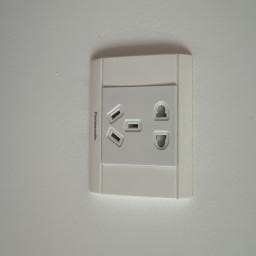outlet: (70, 38, 202, 210)
